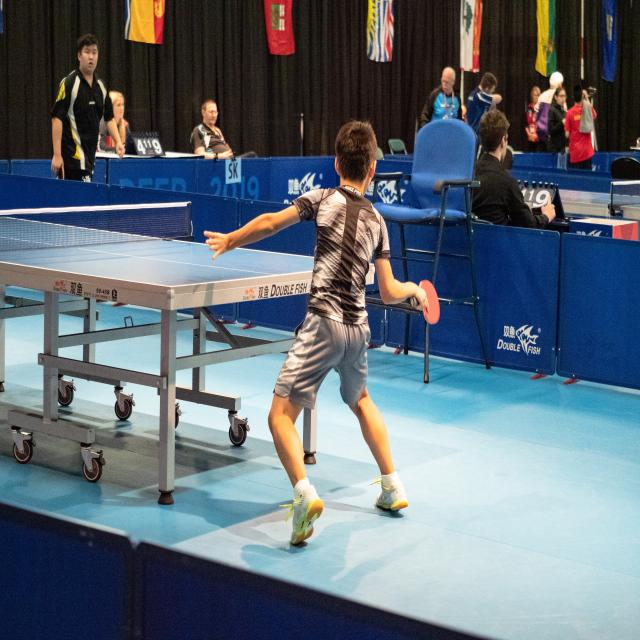TT Net: (0, 203, 194, 258), (609, 176, 640, 218)
TT Racket: (406, 270, 445, 330), (53, 152, 68, 187)
TT Table: (0, 212, 374, 315), (493, 157, 640, 223)
